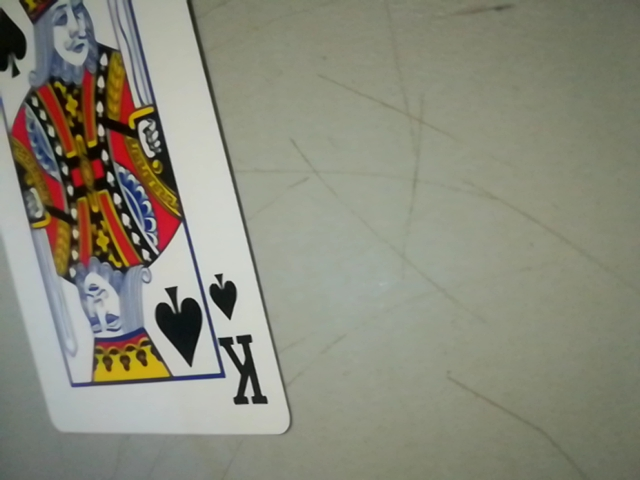ht k: (205, 255, 270, 426)
